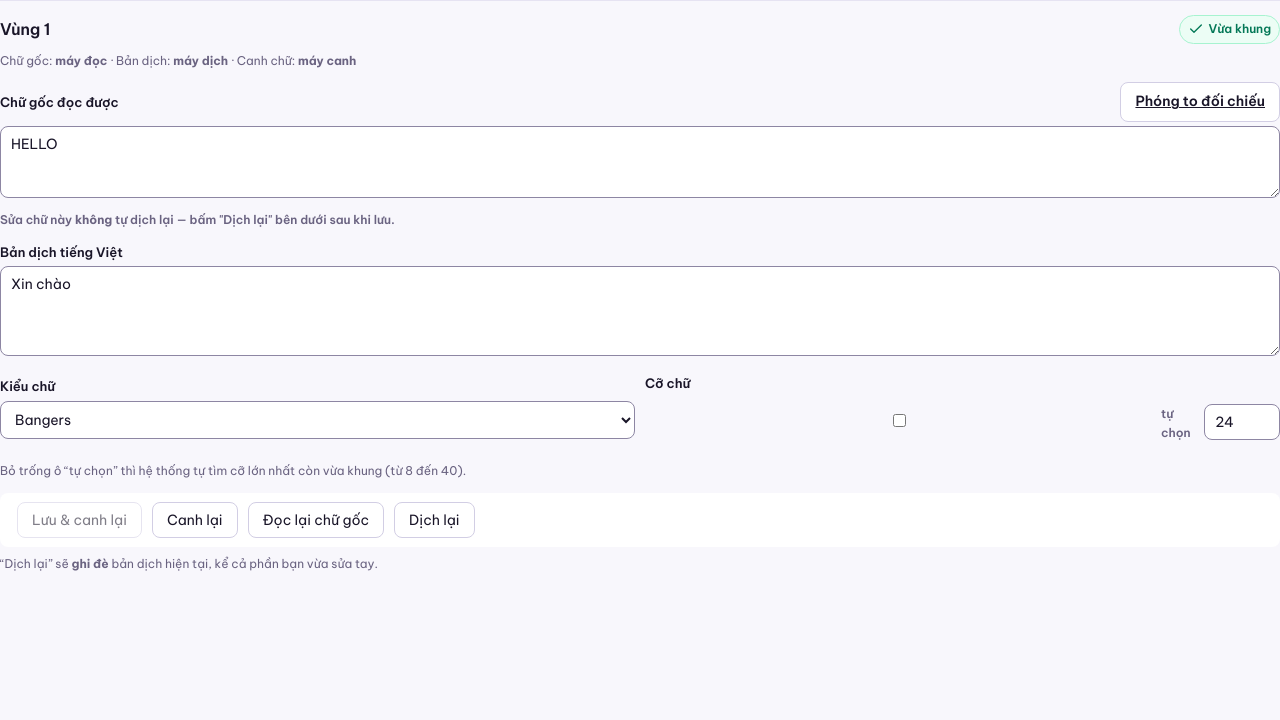
Test case: phóng to đối chiếu ảnh gốc (E21) › bấm "Phóng to đối chiếu" mở modal, tải ảnh gốc ĐÚNG page đang mở
What coordinates should you click on to do the following:
click the button "Phóng to đối chiếu"
I would click on:
 (1200, 102)
Its box is [1120,82,1279,122].
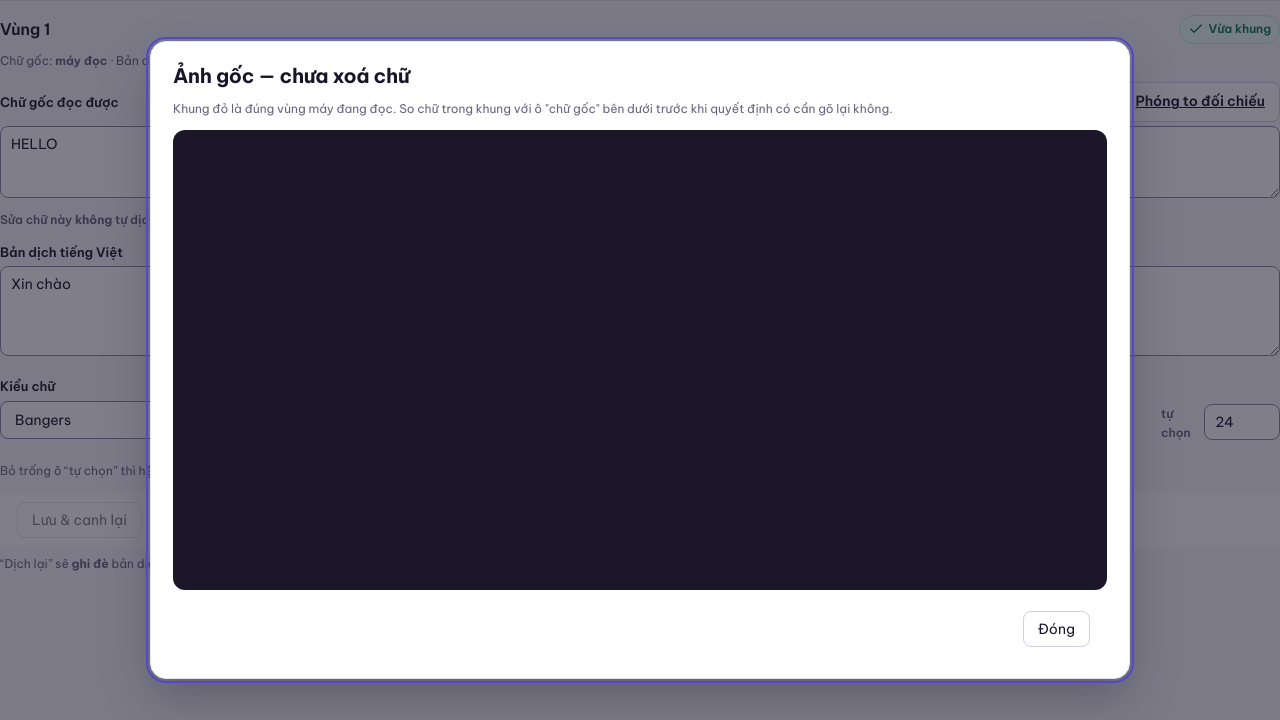
Now the dialog is shown
Now the heading "Ảnh gốc — chưa xoá chữ" is shown, box [173,62,410,88]
